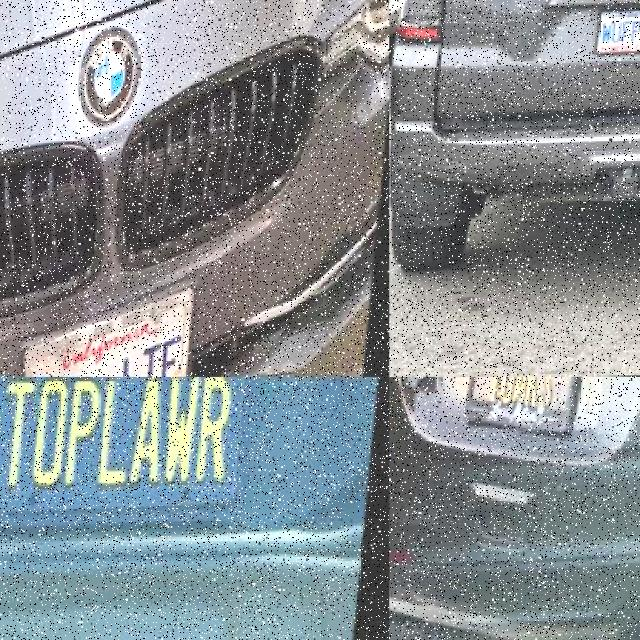licenseplate: (0, 377, 268, 538), (31, 287, 203, 377), (474, 377, 586, 446), (600, 12, 640, 59)
